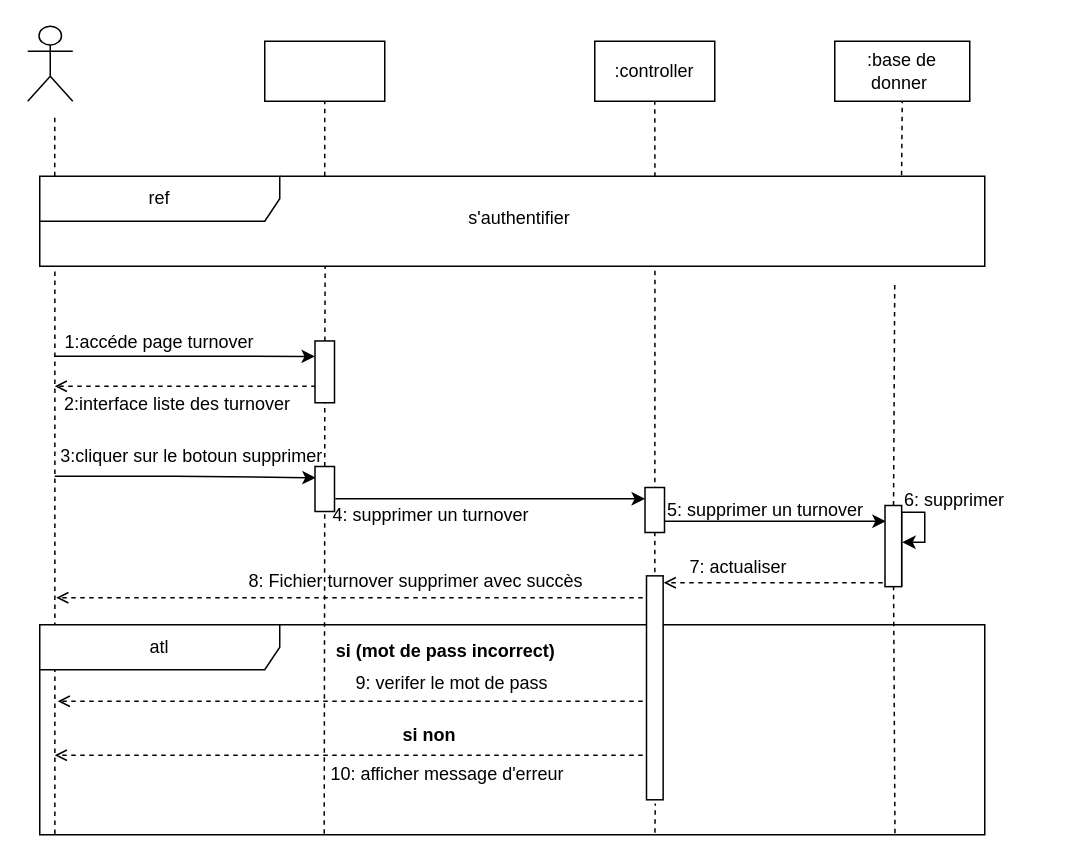
Some shapes in this 1086 by 863 pixel diagram are drawn without their labels. The shapes that lost their labels are listed below. From the top down, each one's centre as x and y in pixels, then its label:
At [49,63]: "admin".
At [324,70]: ":view".
